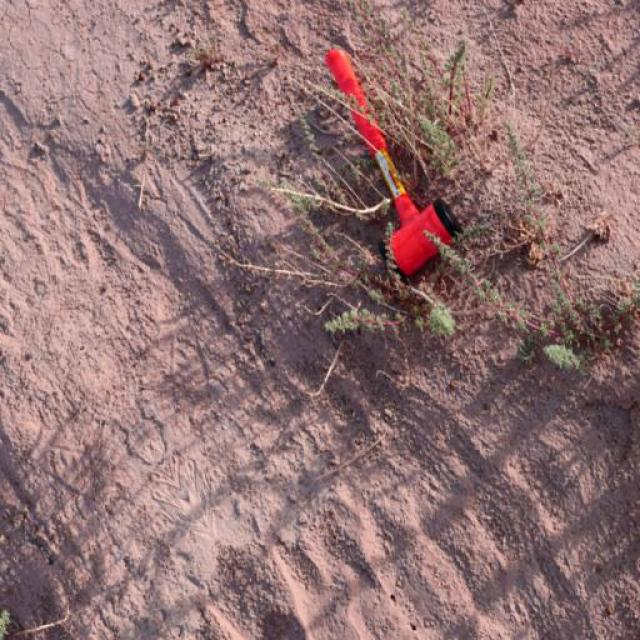mallet: (322, 45, 462, 277)
